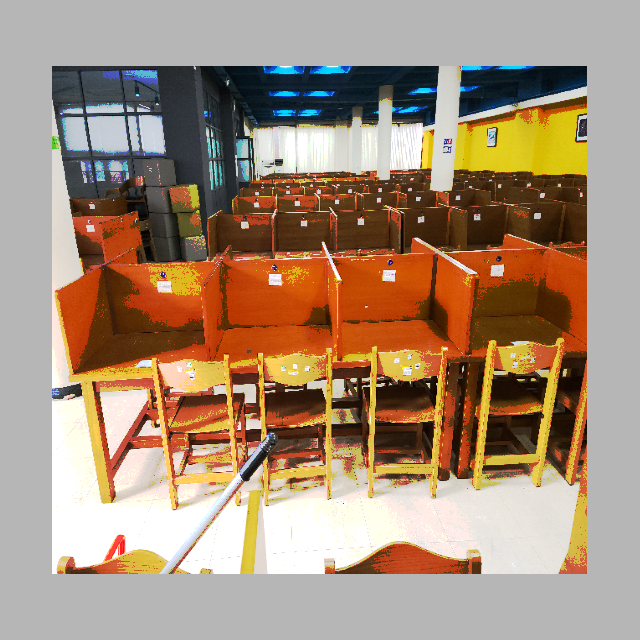empty: (64, 273, 205, 412), (340, 263, 461, 420), (208, 267, 333, 415)
